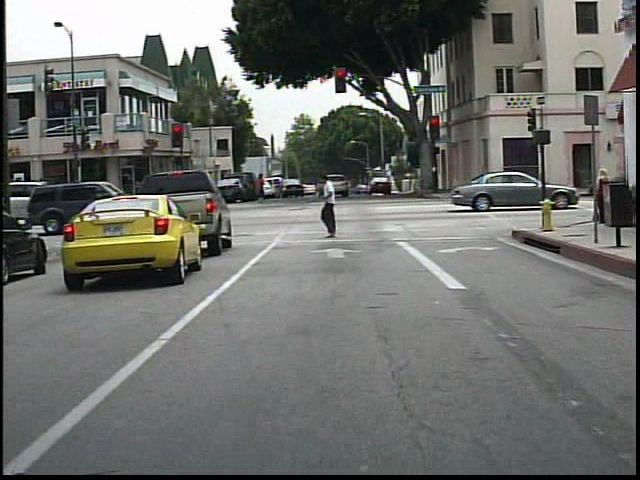person: (317, 168, 348, 239), (591, 164, 615, 226), (252, 169, 275, 208)
